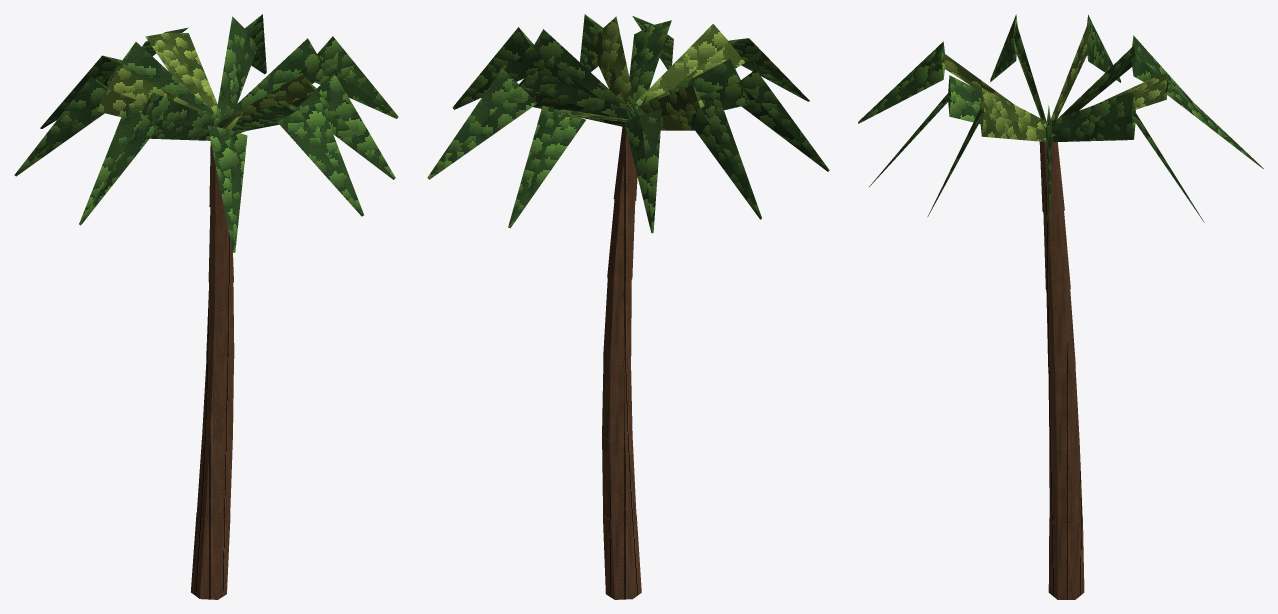
The model's file is palmera.obj.
3 views of the same model, side by side, from view 1: azimuth 30°, elevation 25°; view 2: azimuth 150°, elevation 25°; view 3: azimuth 270°, elevation 25° (orthographic).
Parts seen in each view (by area): view 1: palmera; view 2: palmera; view 3: palmera.
Boxes of the visible parts, x1,y1,x2,y2 form: palmera: [14, 14, 398, 599]; palmera: [427, 14, 829, 599]; palmera: [858, 14, 1263, 599].
Bounding box in the file's own units: 5.39 × 7.97 × 5.5.
Materials: 3 (3 with a texture image).
